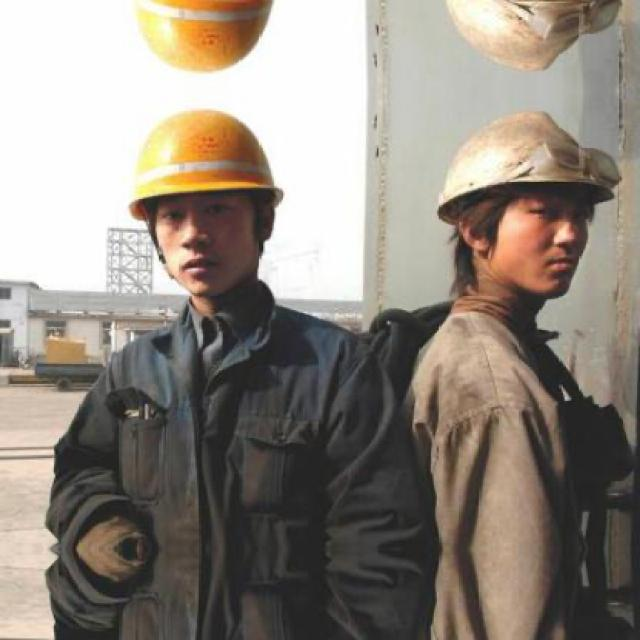con casco: (414, 114, 634, 278), (143, 109, 303, 261)
